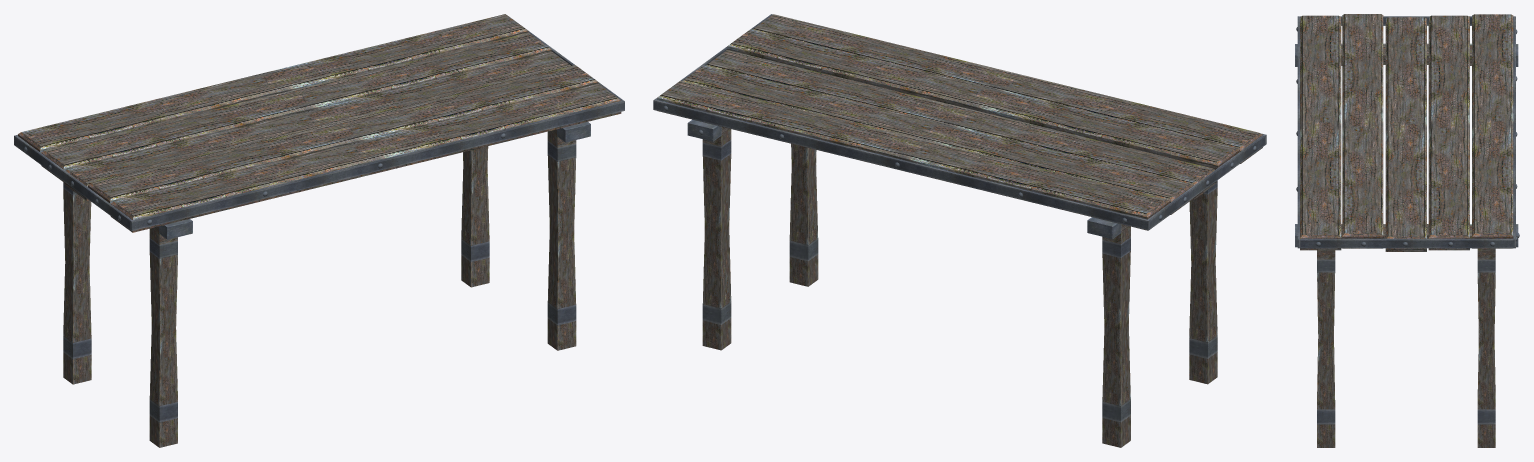
The model's file is Table_1.FBX.
3 renders of one model, left to right at view 1: azimuth 30°, elevation 25°; view 2: azimuth 150°, elevation 25°; view 3: azimuth 270°, elevation 25°, orthographic. The views are drawn at different scales.
Parts seen in each view (by area): view 1: Box34; view 2: Box34; view 3: Box34.
Boxes of the visible parts, x1=… form: Box34: x1=14, y1=14, x2=624, y2=447; Box34: x1=653, y1=14, x2=1266, y2=447; Box34: x1=1295, y1=14, x2=1519, y2=447.
Size of the model in its own units: 346 by 165 by 146.
Materials: 2 (2 with a texture image).
